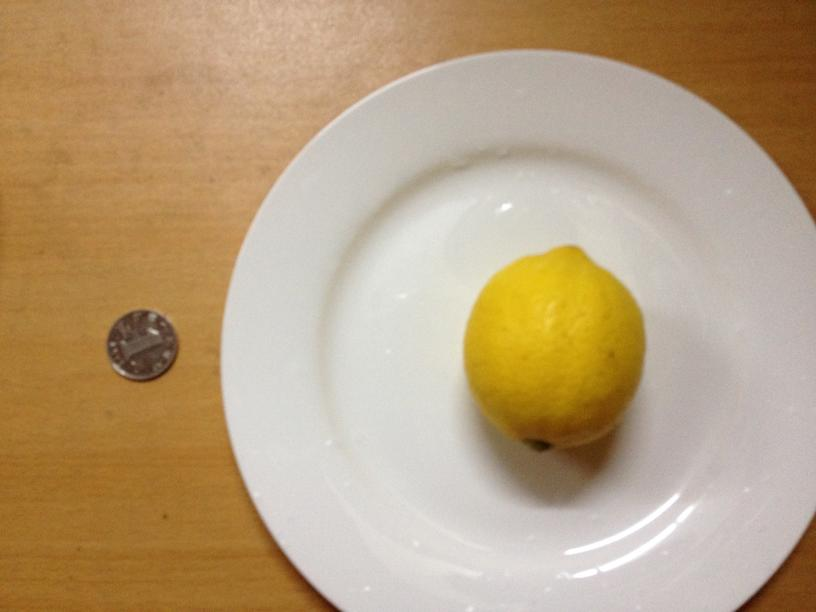coin: (104, 309, 180, 381)
lemon: (465, 247, 646, 450)
